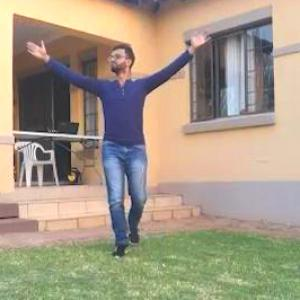takeoff: (21, 19, 229, 246)
